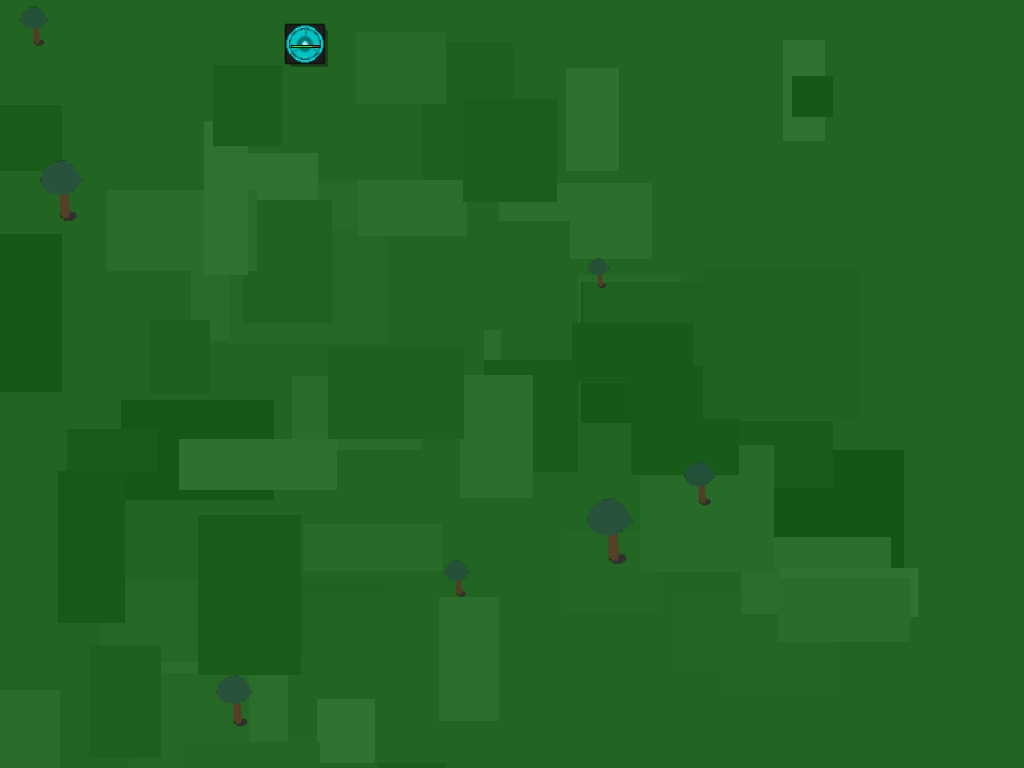LaserTurret: (274, 13, 335, 74)
